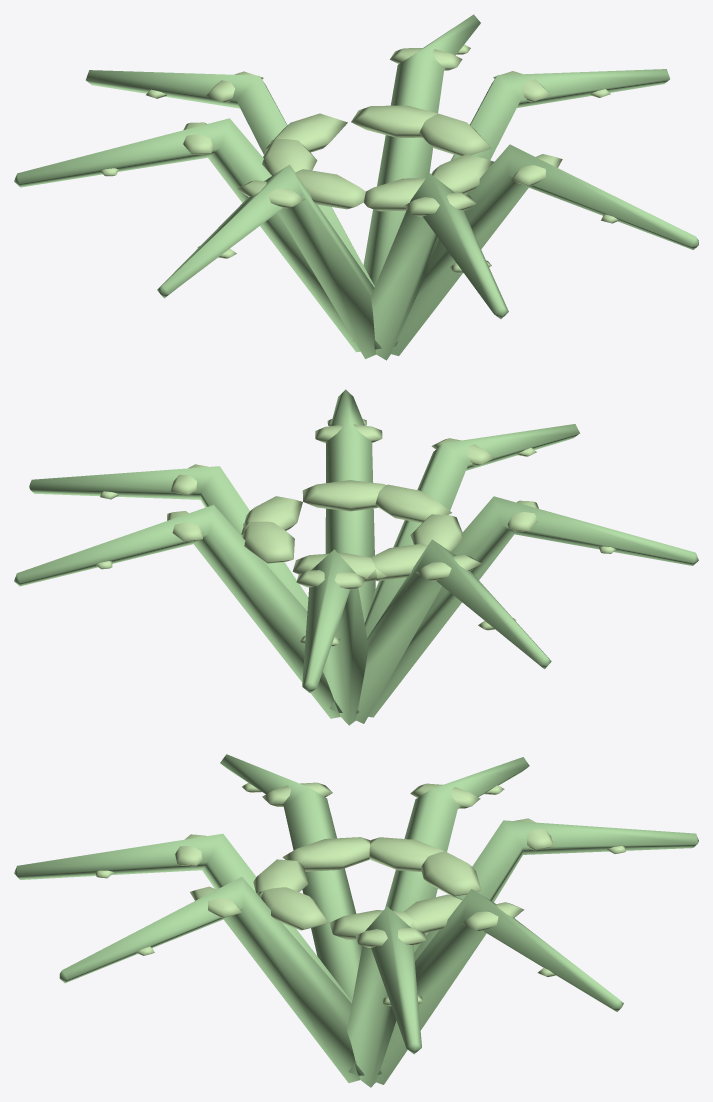
The model's file is fern.glb.
3 renders of one model, top to bottom at view 1: azimuth 30°, elevation 25°; view 2: azimuth 150°, elevation 25°; view 3: azimuth 270°, elevation 25°, orthographic. The views are drawn at different scales.
Parts seen in each view (by area): view 1: fern; view 2: fern; view 3: fern.
Part boxes in pixels (left/top/right/bottom): fern: left=14, top=14, right=698, bottom=360; fern: left=14, top=389, right=698, bottom=725; fern: left=14, top=754, right=698, bottom=1087.
Size of the model in its own units: 0.8705 by 0.3271 by 0.8684.
